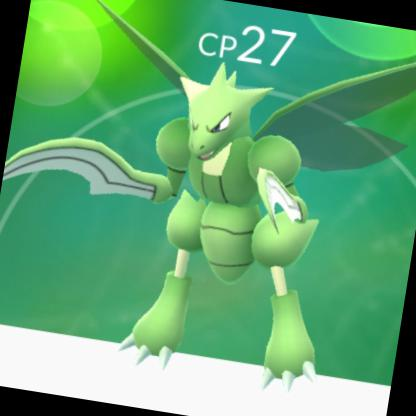Scyther: (1, 1, 416, 416)
